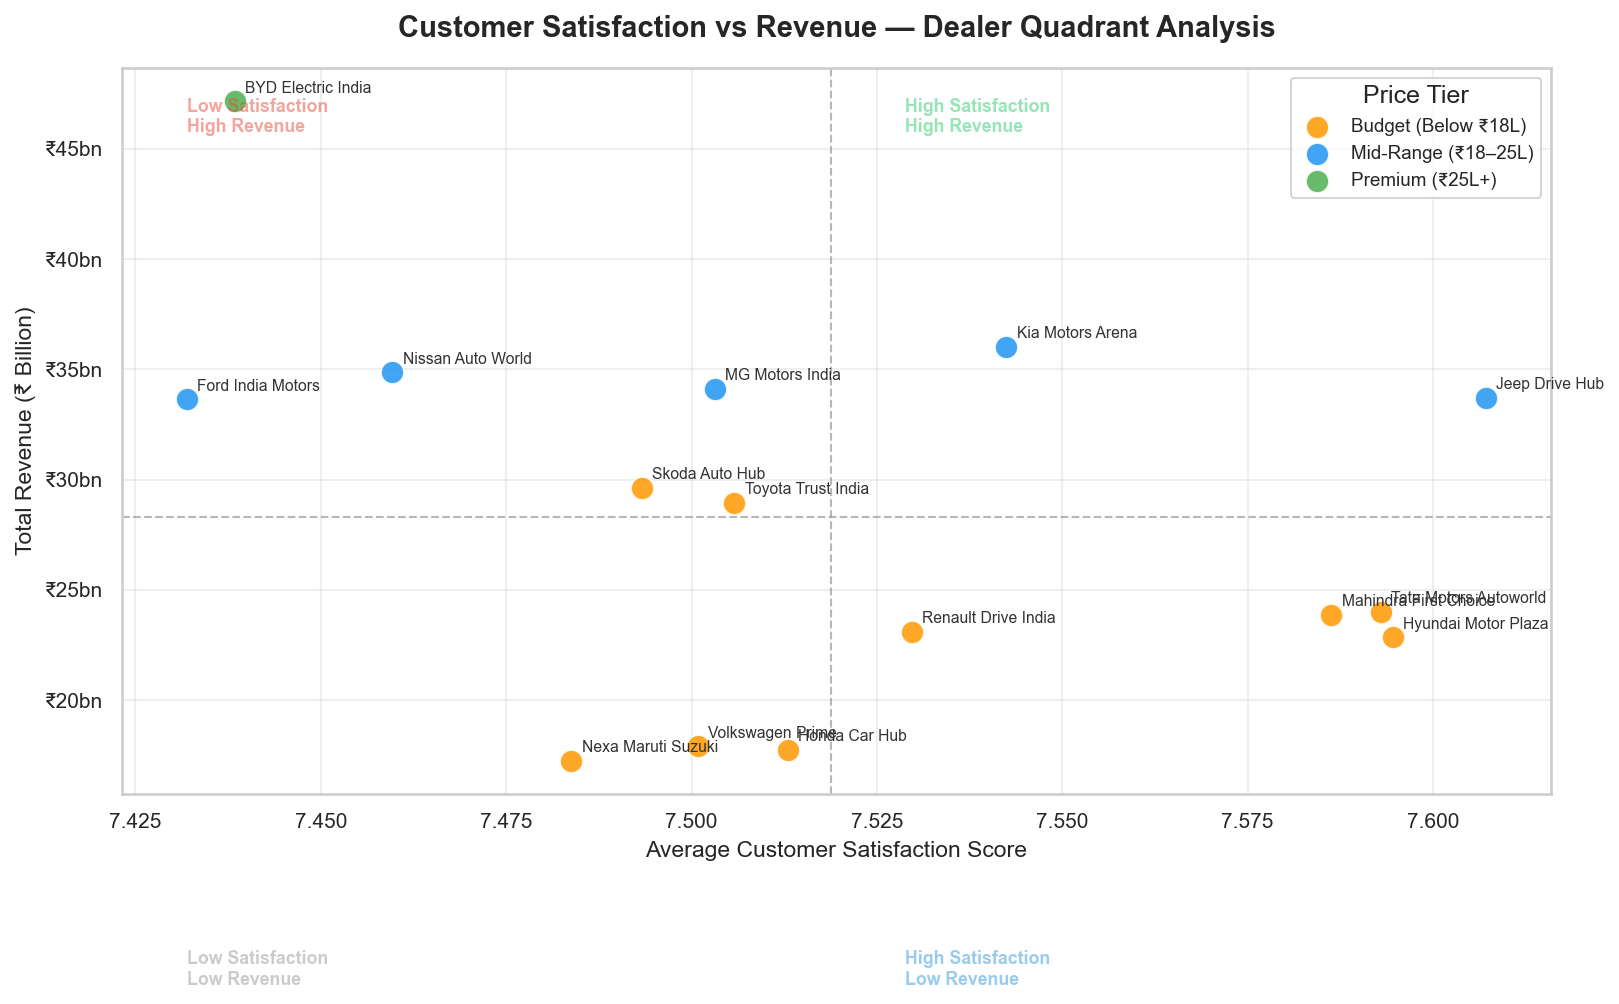

This screenshot's page, from the dashboard's own definition file:
{"tool":"powerbi","page":{"name":"Dealer Performance","canvas":[1280,1000],"ordinal":1},"visuals":[{"type":"shape","box":[11,0,645.4,154.6],"z":0},{"type":"shape","box":[670.1,10,291.1,121.9],"z":1000},{"type":"shape","box":[974,10,291.1,121.9],"z":2000},{"type":"advancedSlicerVisual","fields":{"Values":["Automobile_sales_cleaned.Year"]},"box":[27,12.3,613.5,132.5],"z":3000},{"type":"slicer","fields":{"Values":["Automobile_sales_cleaned.Region"]},"box":[683.4,28.2,263.8,87.1],"z":4000},{"type":"slicer","fields":{"Values":["Automobile_sales_cleaned.Category"]},"box":[987.7,28.2,263.8,87.1],"z":5000},{"type":"shape","box":[673.6,131.3,591.4,16],"z":6000},{"type":"shape","box":[8.6,144.8,317.8,146],"z":7000},{"type":"shape","box":[326.4,144.8,317.8,146],"z":8000},{"type":"shape","box":[644.2,144.8,317.8,146],"z":9000},{"type":"shape","box":[962,146,317.8,146],"z":10000},{"type":"shape","box":[0,281.2,645.9,457],"z":11000},{"type":"shape","box":[634.4,281,645.4,457],"z":12000},{"type":"shape","box":[634.3,731.3,645.5,268.7],"z":13000},{"type":"shape","box":[0,731.4,645.7,268.6],"z":14000},{"type":"group","id":"g1","title":"Group 1","box":[19.3,152.6,297.2,128.6],"z":15000},{"type":"group","id":"g2","title":"Group 1","box":[339.1,156.9,295.3,124.3],"z":16000},{"type":"cardVisual","fields":{"Data":["Automobile_sales_cleaned.total_revenue"]},"box":[19.3,152.6,225.7,105.7],"z":17000,"group":"g1"},{"type":"group","id":"g3","title":"Group 1","box":[656.4,156.7,295.7,123],"z":17000},{"type":"cardVisual","fields":{"Data":["Automobile_sales_cleaned.Avg_revenue_per_dealer"]},"box":[339.1,156.9,212.3,100.6],"z":17000,"group":"g2"},{"type":"cardVisual","fields":{"Data":["Avg(Automobile_sales_cleaned.Customer_Satisfaction_Score)"]},"box":[656.4,159.2,195.7,97.7],"z":17000,"group":"g3"},{"type":"cardVisual","fields":{"Data":["Count(Automobile_sales_cleaned.Dealer)"]},"box":[974.3,161.5,194.2,97.1],"z":17000,"group":"g4"},{"type":"textbox","box":[667,156.7,216,34.8],"z":18000,"group":"g3"},{"type":"textbox","box":[344.8,157.2,214.7,32.6],"z":18000,"group":"g2"},{"type":"textbox","box":[38,157.3,179.1,33.6],"z":18000,"group":"g1"},{"type":"group","id":"g4","title":"Group 1","box":[974.3,159.3,295,123],"z":18000},{"type":"textbox","box":[994.1,159.3,177.8,33.3],"z":18000,"group":"g4"},{"type":"image","box":[579.2,157.2,41.7,44.4],"z":19000,"group":"g2"},{"type":"image","box":[896.9,158,41.7,43.8],"z":19000,"group":"g3"},{"type":"image","box":[262.5,158.6,41.7,43.9],"z":19000,"group":"g1"},{"type":"image","box":[1214.5,160.6,41.4,43.6],"z":19000,"group":"g4"},{"type":"clusteredBarChart","title":"Revenue by Dealer","fields":{"Category":["Automobile_sales_cleaned.Dealer"],"Y":["Sum(Automobile_sales_cleaned.Revenue)"]},"box":[21.4,295.7,614.3,434.3],"z":19000},{"type":"areaChart","fields":{"Category":["Automobile_sales_cleaned.Quarter"],"Y":["Avg(Automobile_sales_cleaned.Customer_Satisfaction_Score)"]},"box":[662.7,214.3,289.4,65.4],"z":20000,"group":"g3"},{"type":"areaChart","fields":{"Category":["Automobile_sales_cleaned.Quarter"],"Y":["Automobile_sales_cleaned.Avg_revenue_per_dealer"]},"box":[345,214.9,289.4,66.2],"z":20000,"group":"g2"},{"type":"areaChart","fields":{"Y":["Sum(Automobile_sales_cleaned.Revenue)"],"Category":["Automobile_sales_cleaned.Quarter"]},"box":[27.1,215.7,289.4,65.5],"z":20000,"group":"g1"},{"type":"areaChart","fields":{"Category":["Automobile_sales_cleaned.Quarter"],"Y":["CountNonNull(Automobile_sales_cleaned.Dealer)"]},"box":[982.1,217.2,287.2,65.1],"z":20000,"group":"g4"},{"type":"clusteredBarChart","title":"Average Unit Price (Lakhs) per Dealer","fields":{"Category":["Automobile_sales_cleaned.Dealer"],"Y":["Automobile_sales_cleaned.avg_unit_price(lakhs)"]},"box":[657.1,295.7,612.9,434.3],"z":20000},{"type":"scatterChart","title":"Satisfaction vs Revenue by Dealer","fields":{"Category":["Automobile_sales_cleaned.Dealer"],"X":["Avg(Automobile_sales_cleaned.Customer_Satisfaction_Score)"],"Y":["Sum(Automobile_sales_cleaned.Revenue)"],"Size":["Sum(Automobile_sales_cleaned.Units_Sold)"]},"box":[21.4,744.3,612.9,248.6],"z":21000},{"type":"lineChart","title":"Dealer Revenue Trend (2020–2025)","fields":{"Y":["Sum(Automobile_sales_cleaned.Revenue)"],"Category":["Automobile_sales_cleaned.Year"],"Series":["Automobile_sales_cleaned.Dealer"]},"box":[655.7,744.3,608.6,250],"z":22000}]}

Visuals, with their boxes on the page's 1280x1000 design canvas (x1, y1, x2, y2). These are canvas units, not pixel positions in the 1619x1004 screenshot, which may show the page scaled, cropped or inside an application window:
shape: <bbox>11, 0, 656, 155</bbox>
shape: <bbox>670, 10, 961, 132</bbox>
shape: <bbox>974, 10, 1265, 132</bbox>
advancedSlicerVisual - Automobile_sales_cleaned.Year: <bbox>27, 12, 640, 145</bbox>
slicer - Automobile_sales_cleaned.Region: <bbox>683, 28, 947, 115</bbox>
slicer - Automobile_sales_cleaned.Category: <bbox>988, 28, 1252, 115</bbox>
shape: <bbox>674, 131, 1265, 147</bbox>
shape: <bbox>9, 145, 326, 291</bbox>
shape: <bbox>326, 145, 644, 291</bbox>
shape: <bbox>644, 145, 962, 291</bbox>
shape: <bbox>962, 146, 1280, 292</bbox>
shape: <bbox>0, 281, 646, 738</bbox>
shape: <bbox>634, 281, 1280, 738</bbox>
shape: <bbox>634, 731, 1280, 1000</bbox>
shape: <bbox>0, 731, 646, 1000</bbox>
"Group 1" group: <bbox>19, 153, 316, 281</bbox>
"Group 1" group: <bbox>339, 157, 634, 281</bbox>
cardVisual - Automobile_sales_cleaned.total_revenue: <bbox>19, 153, 245, 258</bbox>
"Group 1" group: <bbox>656, 157, 952, 280</bbox>
cardVisual - Automobile_sales_cleaned.Avg_revenue_per_dealer: <bbox>339, 157, 551, 258</bbox>
cardVisual - Avg(Automobile_sales_cleaned.Customer_Satisfaction_Score): <bbox>656, 159, 852, 257</bbox>
cardVisual - Count(Automobile_sales_cleaned.Dealer): <bbox>974, 162, 1168, 259</bbox>
textbox: <bbox>667, 157, 883, 192</bbox>
textbox: <bbox>345, 157, 560, 190</bbox>
textbox: <bbox>38, 157, 217, 191</bbox>
"Group 1" group: <bbox>974, 159, 1269, 282</bbox>
textbox: <bbox>994, 159, 1172, 193</bbox>
image: <bbox>579, 157, 621, 202</bbox>
image: <bbox>897, 158, 939, 202</bbox>
image: <bbox>262, 159, 304, 202</bbox>
image: <bbox>1214, 161, 1256, 204</bbox>
"Revenue by Dealer" clusteredBarChart: <bbox>21, 296, 636, 730</bbox>
areaChart - Automobile_sales_cleaned.Quarter x Avg(Automobile_sales_cleaned.Customer_Satisfaction_Score): <bbox>663, 214, 952, 280</bbox>
areaChart - Automobile_sales_cleaned.Quarter x Automobile_sales_cleaned.Avg_revenue_per_dealer: <bbox>345, 215, 634, 281</bbox>
areaChart - Sum(Automobile_sales_cleaned.Revenue) x Automobile_sales_cleaned.Quarter: <bbox>27, 216, 316, 281</bbox>
areaChart - Automobile_sales_cleaned.Quarter x CountNonNull(Automobile_sales_cleaned.Dealer): <bbox>982, 217, 1269, 282</bbox>
"Average Unit Price (Lakhs) per Dealer" clusteredBarChart: <bbox>657, 296, 1270, 730</bbox>
"Satisfaction vs Revenue by Dealer" scatterChart: <bbox>21, 744, 634, 993</bbox>
"Dealer Revenue Trend (2020–2025)" lineChart: <bbox>656, 744, 1264, 994</bbox>
